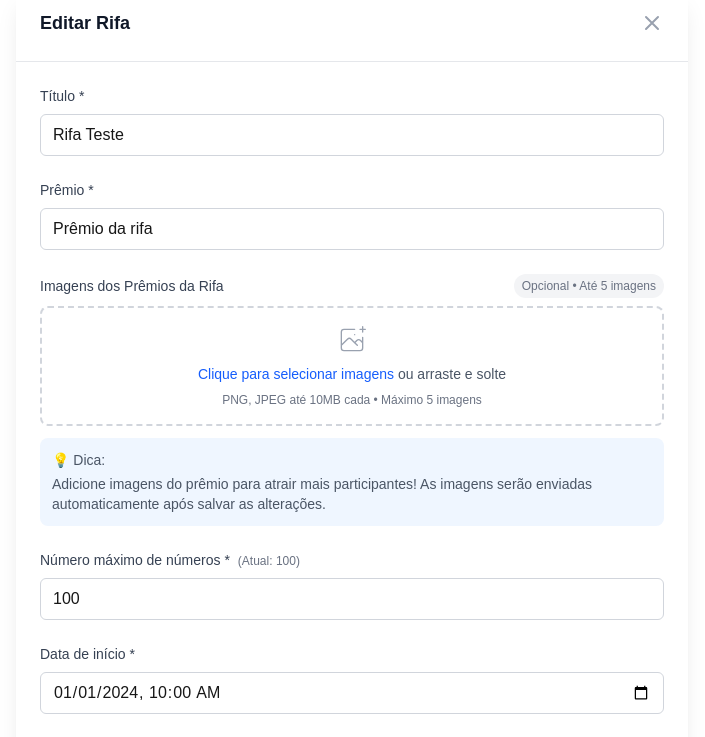
Test: RaffleEditModal - Incremento de Números › deve mostrar validação visual quando o valor for maior que o atual
Replace the text in the number field labelled "Número máximo de números *(Atual: 100)" with "150" at [352, 599], box 40,578 -> 664,620
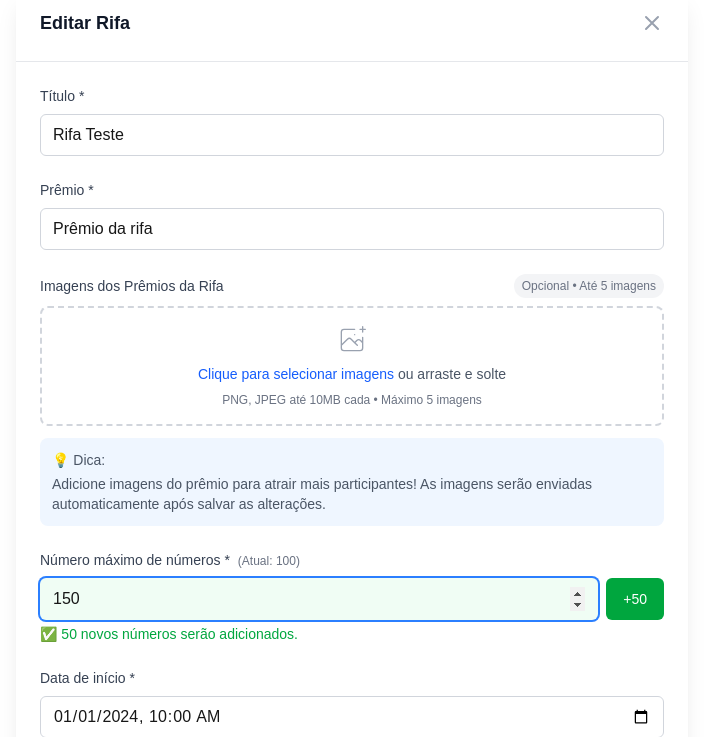
Expected: the text "✅ 50 novos números serão adicionados." is shown, 40,626 -> 298,642
